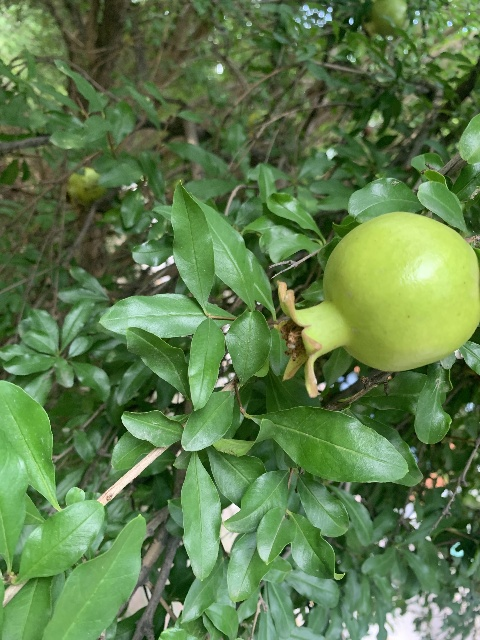mid-growth: (272, 211, 480, 397), (362, 0, 407, 39)
